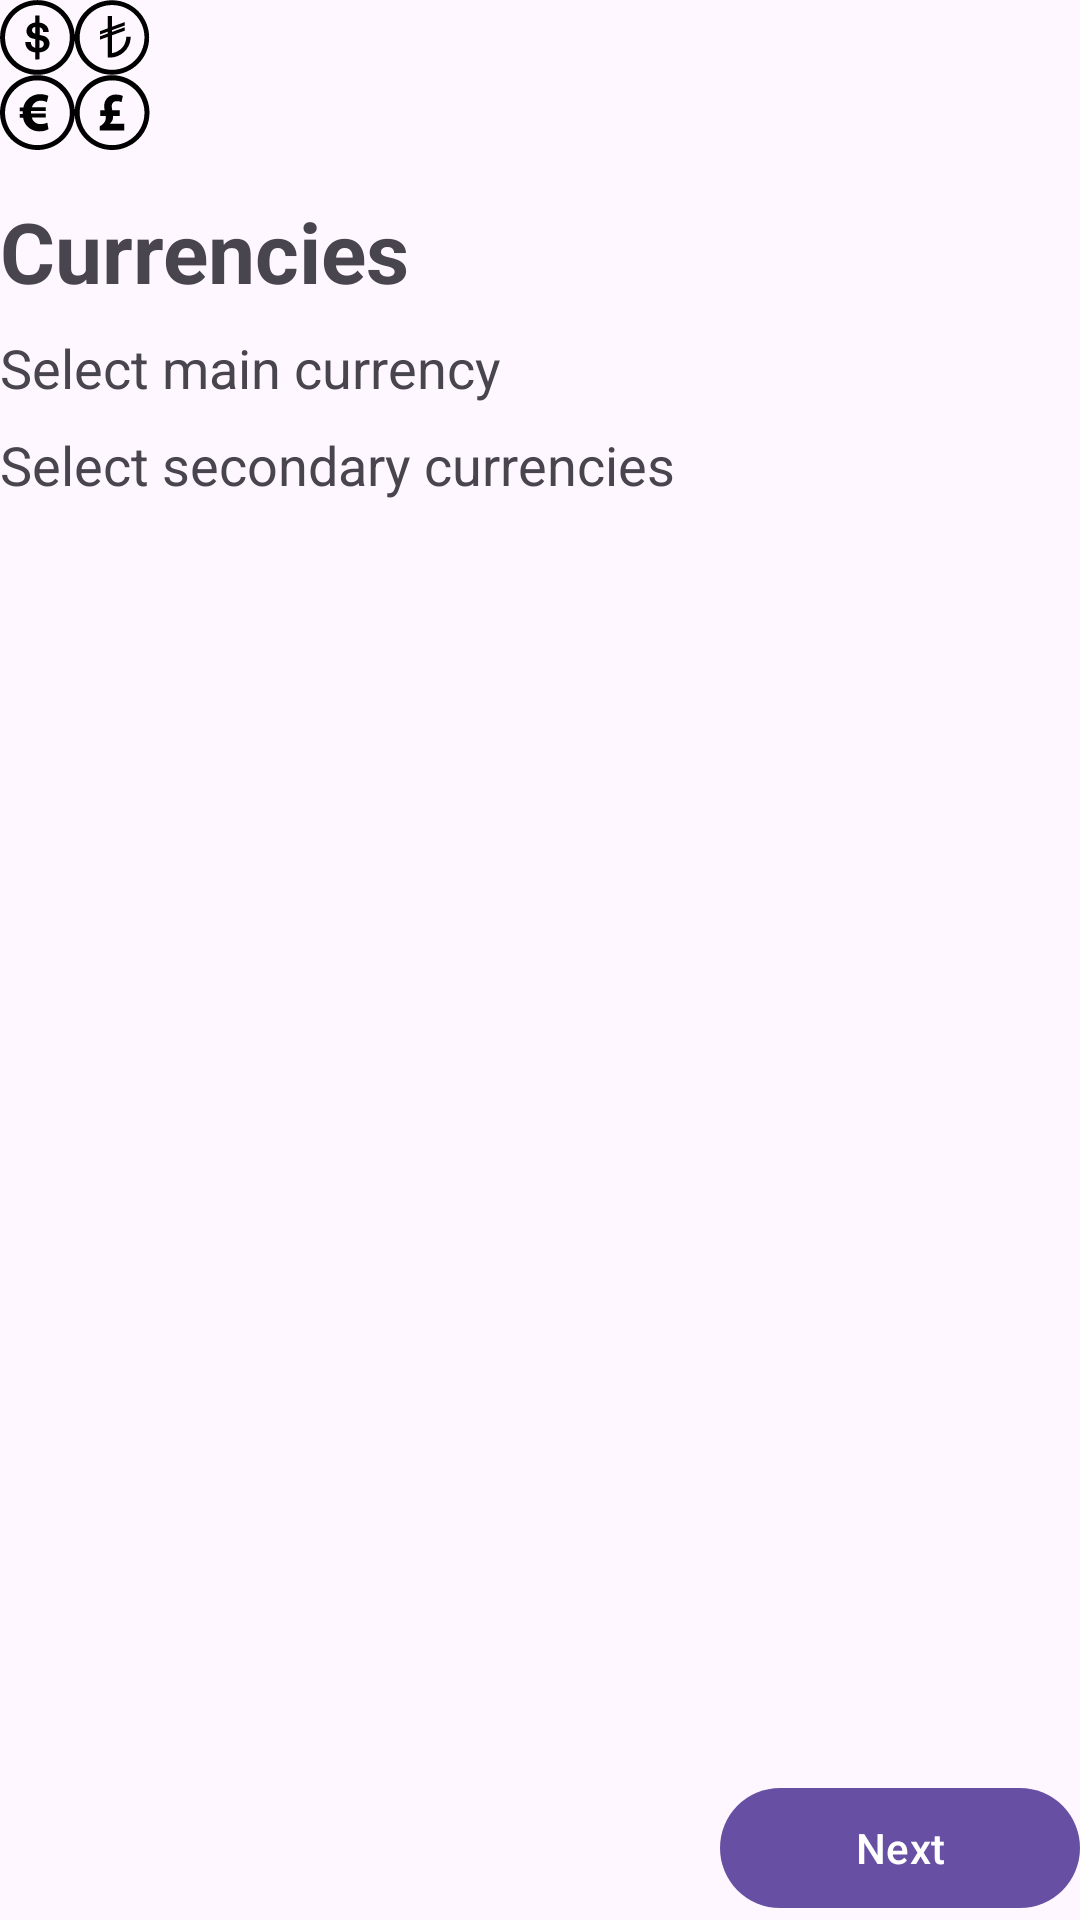

Locate icon controls on the screen. Image size 1080×1920, boxes as box=[x1, y1, x2, y2].
Currency Icon: box=[0, 0, 150, 150]
